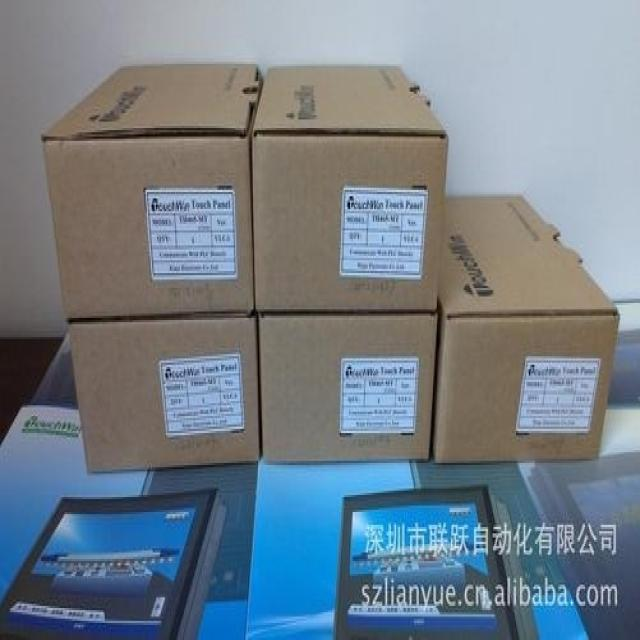box: (38, 62, 263, 325), (430, 190, 620, 466), (249, 62, 451, 314), (67, 312, 261, 475), (257, 313, 439, 466)
